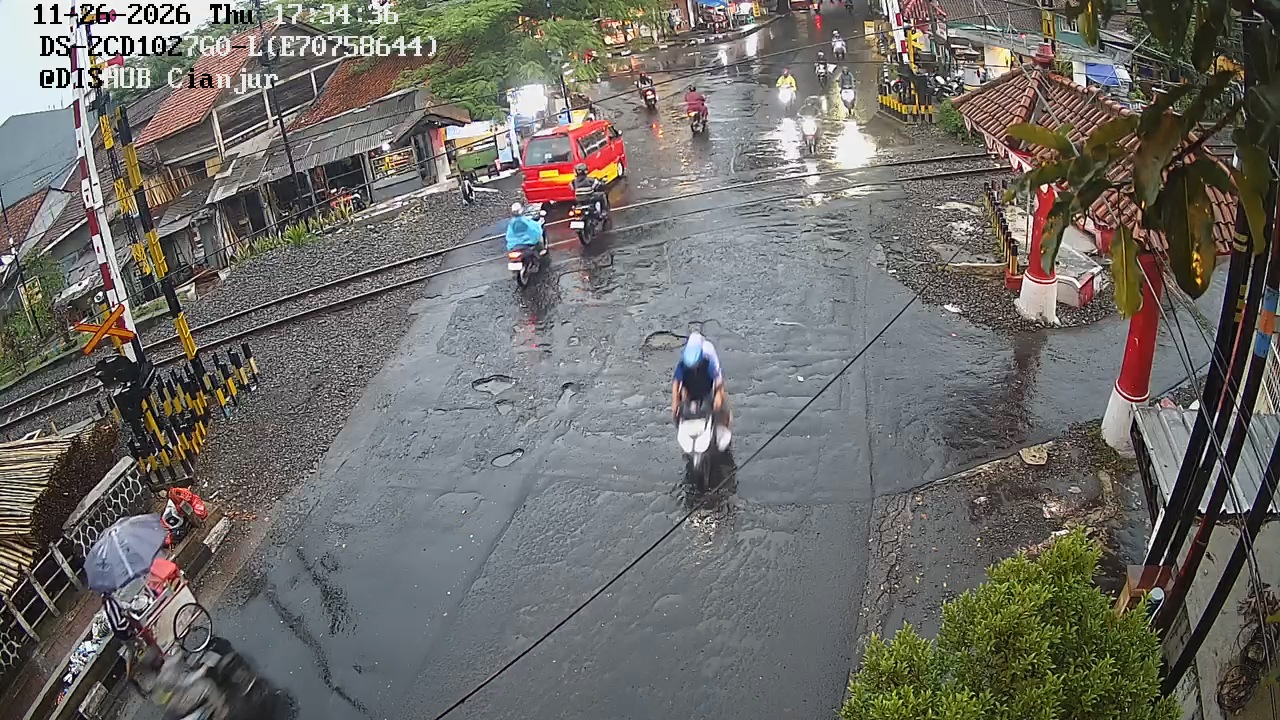Gerobak: (82, 513, 216, 659)
